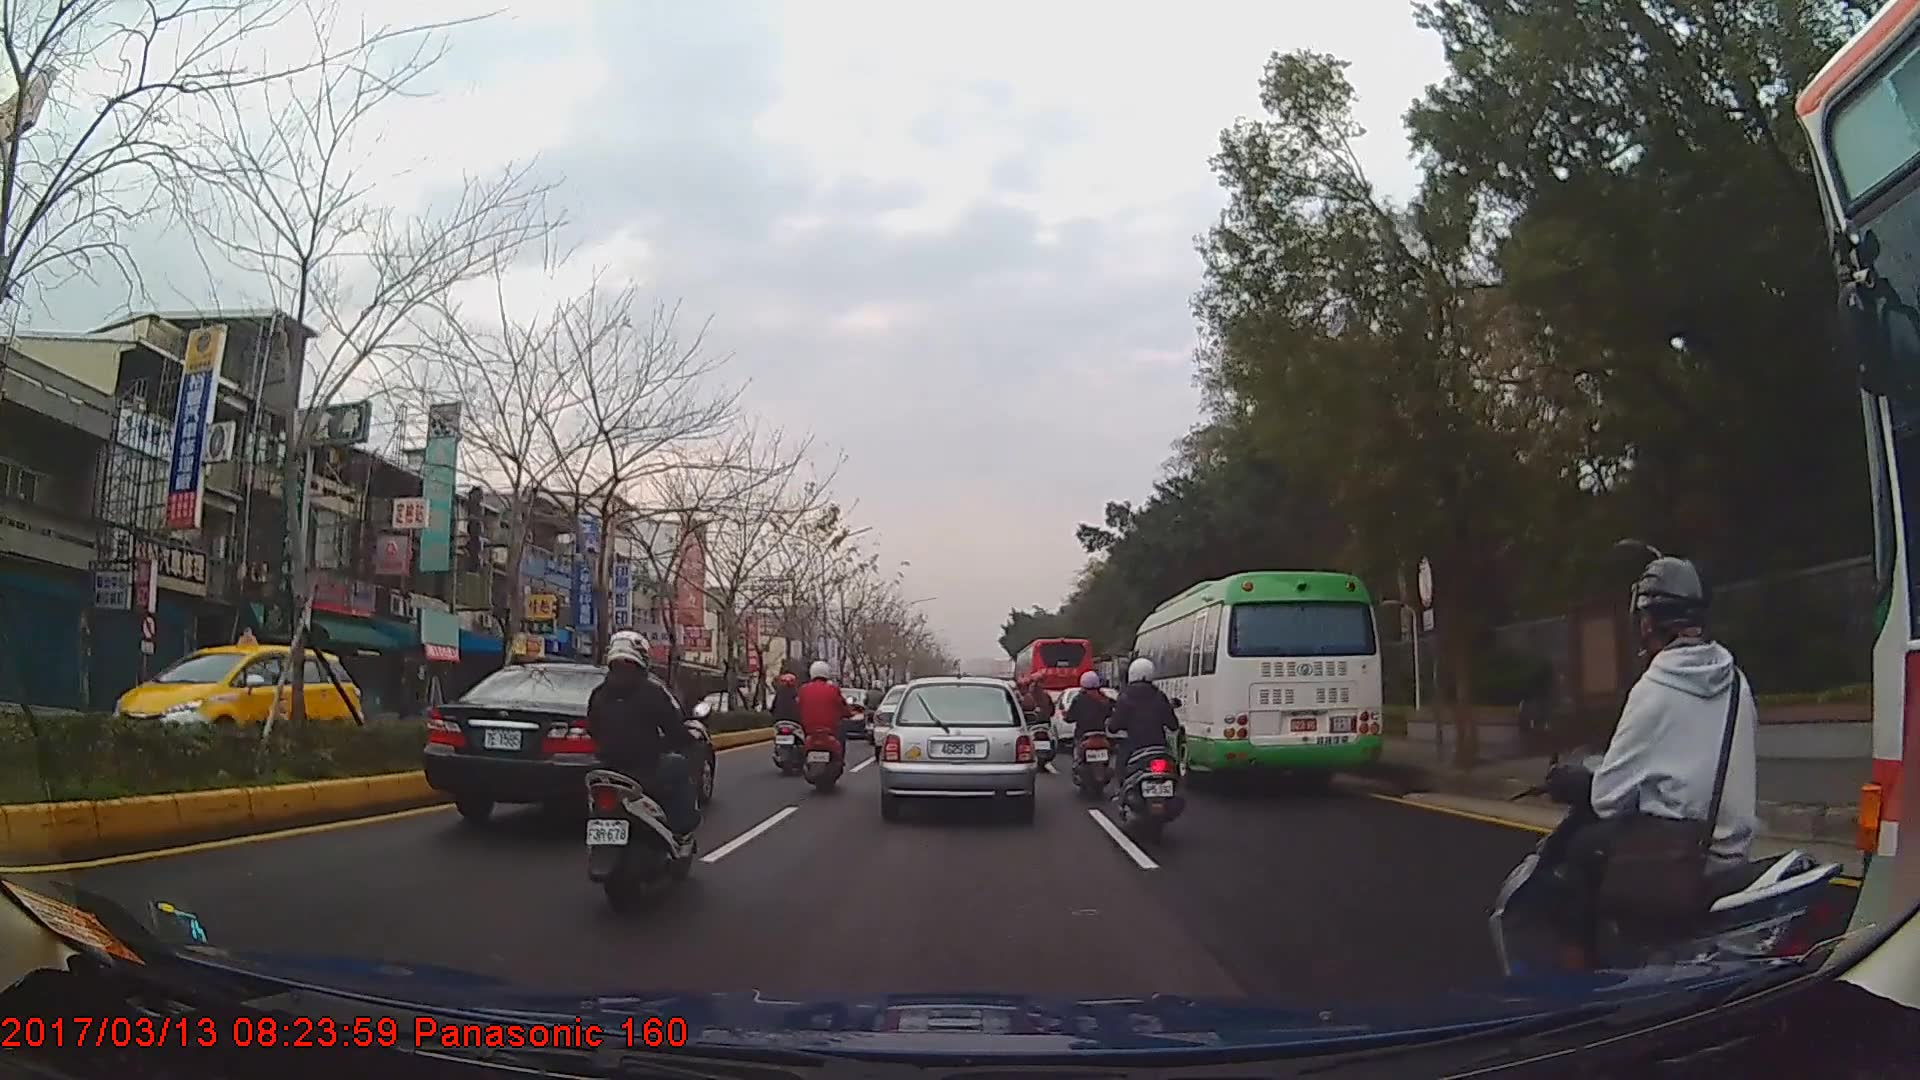rider: (1495, 555, 1842, 1007), (584, 628, 712, 911), (1111, 657, 1188, 840), (1063, 668, 1119, 801), (795, 660, 848, 797), (770, 674, 810, 777), (1015, 670, 1054, 771), (864, 680, 887, 744)
vehicle: (1124, 571, 1385, 797), (421, 661, 717, 834), (105, 623, 372, 772), (880, 674, 1034, 819), (1012, 631, 1096, 727)
